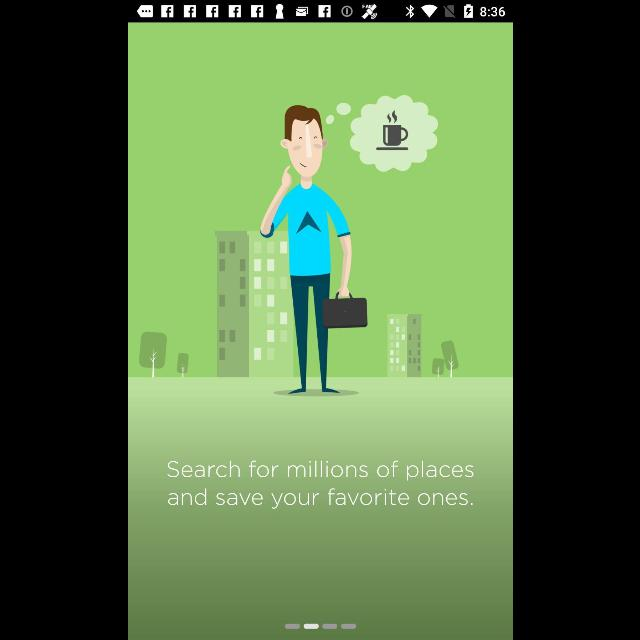backgroundimage: (128, 22, 512, 640)
pageindicator: (284, 623, 356, 629)
text: (167, 460, 473, 510)
uppertaskbar: (128, 1, 512, 23)
